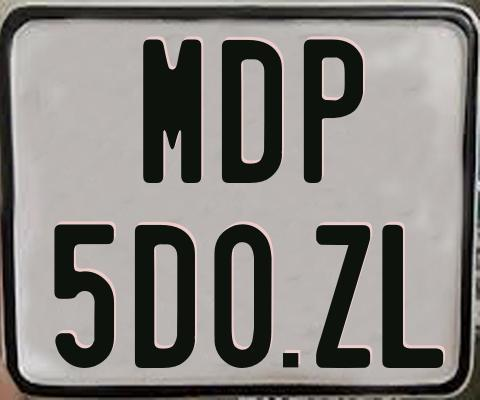0: (212, 222, 275, 369)
5: (52, 224, 117, 372)
D: (219, 37, 282, 182), (135, 224, 198, 368)
L: (379, 223, 442, 369)
M: (143, 37, 201, 182)
P: (302, 37, 361, 181)
Z: (314, 223, 371, 370)
